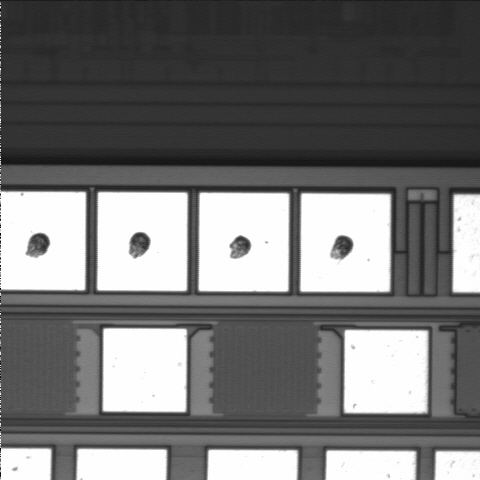pad: (97, 192, 187, 291), (199, 193, 289, 291), (301, 194, 390, 292), (103, 328, 187, 412), (344, 330, 428, 413)
